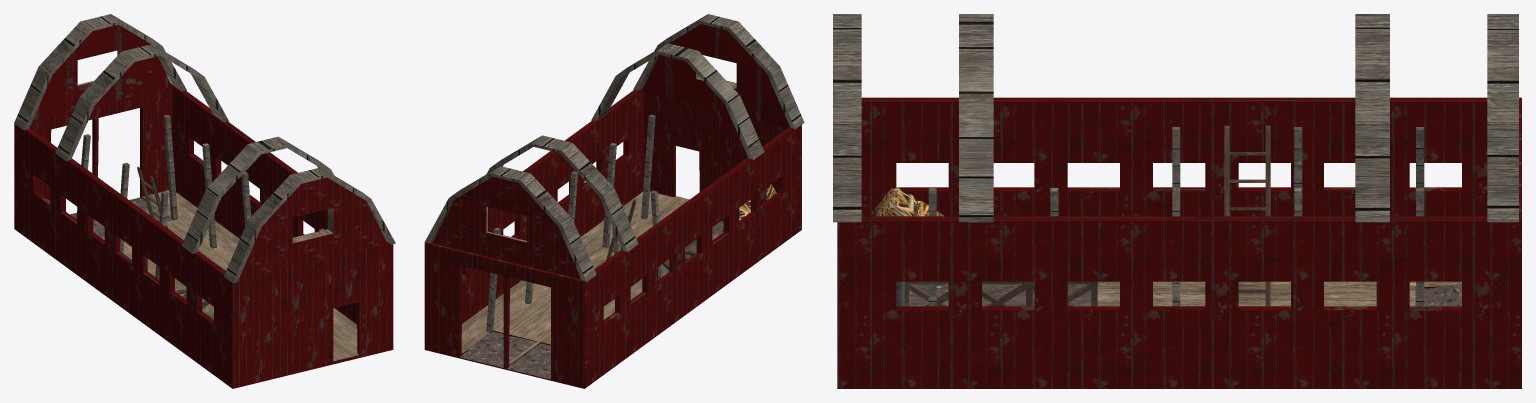
Rendered from Barn.fbx.
3 renders of one model, left to right at view 1: azimuth 30°, elevation 25°; view 2: azimuth 150°, elevation 25°; view 3: azimuth 270°, elevation 25°, orthographic. The views are drawn at different scales.
Parts seen in each view (by area): view 1: Body, Beam, Floor, Planks, Ground2, Ladder, Window; view 2: Body, Beam, Floor, Planks, Ground2; view 3: Body, Beam, Floor, Planks, Fence, Ladder, Dirt, Hay, Ground2.
Part boxes in pixels (bbox=[...]): Body: bbox=[14, 24, 393, 388]; Beam: bbox=[14, 14, 395, 282]; Floor: bbox=[102, 190, 358, 361]; Planks: bbox=[76, 115, 333, 332]; Ground2: bbox=[70, 197, 172, 237]; Ladder: bbox=[137, 166, 167, 228]; Window: bbox=[77, 50, 333, 243]; Body: bbox=[424, 24, 801, 388]; Beam: bbox=[424, 14, 804, 281]; Floor: bbox=[461, 191, 689, 365]; Planks: bbox=[486, 114, 663, 332]; Ground2: bbox=[460, 332, 550, 379]; Body: bbox=[837, 97, 1521, 388]; Beam: bbox=[833, 14, 1518, 222]; Floor: bbox=[1097, 281, 1461, 306]; Planks: bbox=[928, 127, 1424, 306]; Fence: bbox=[896, 281, 1097, 306]; Ladder: bbox=[1224, 125, 1270, 306]; Dirt: bbox=[909, 284, 1091, 306]; Hay: bbox=[870, 187, 948, 286]; Ground2: bbox=[1415, 285, 1461, 306].
Bounding box in the file's own units: 3.68 × 8.59 × 4.15.
Materials: 8 (8 with a texture image).
